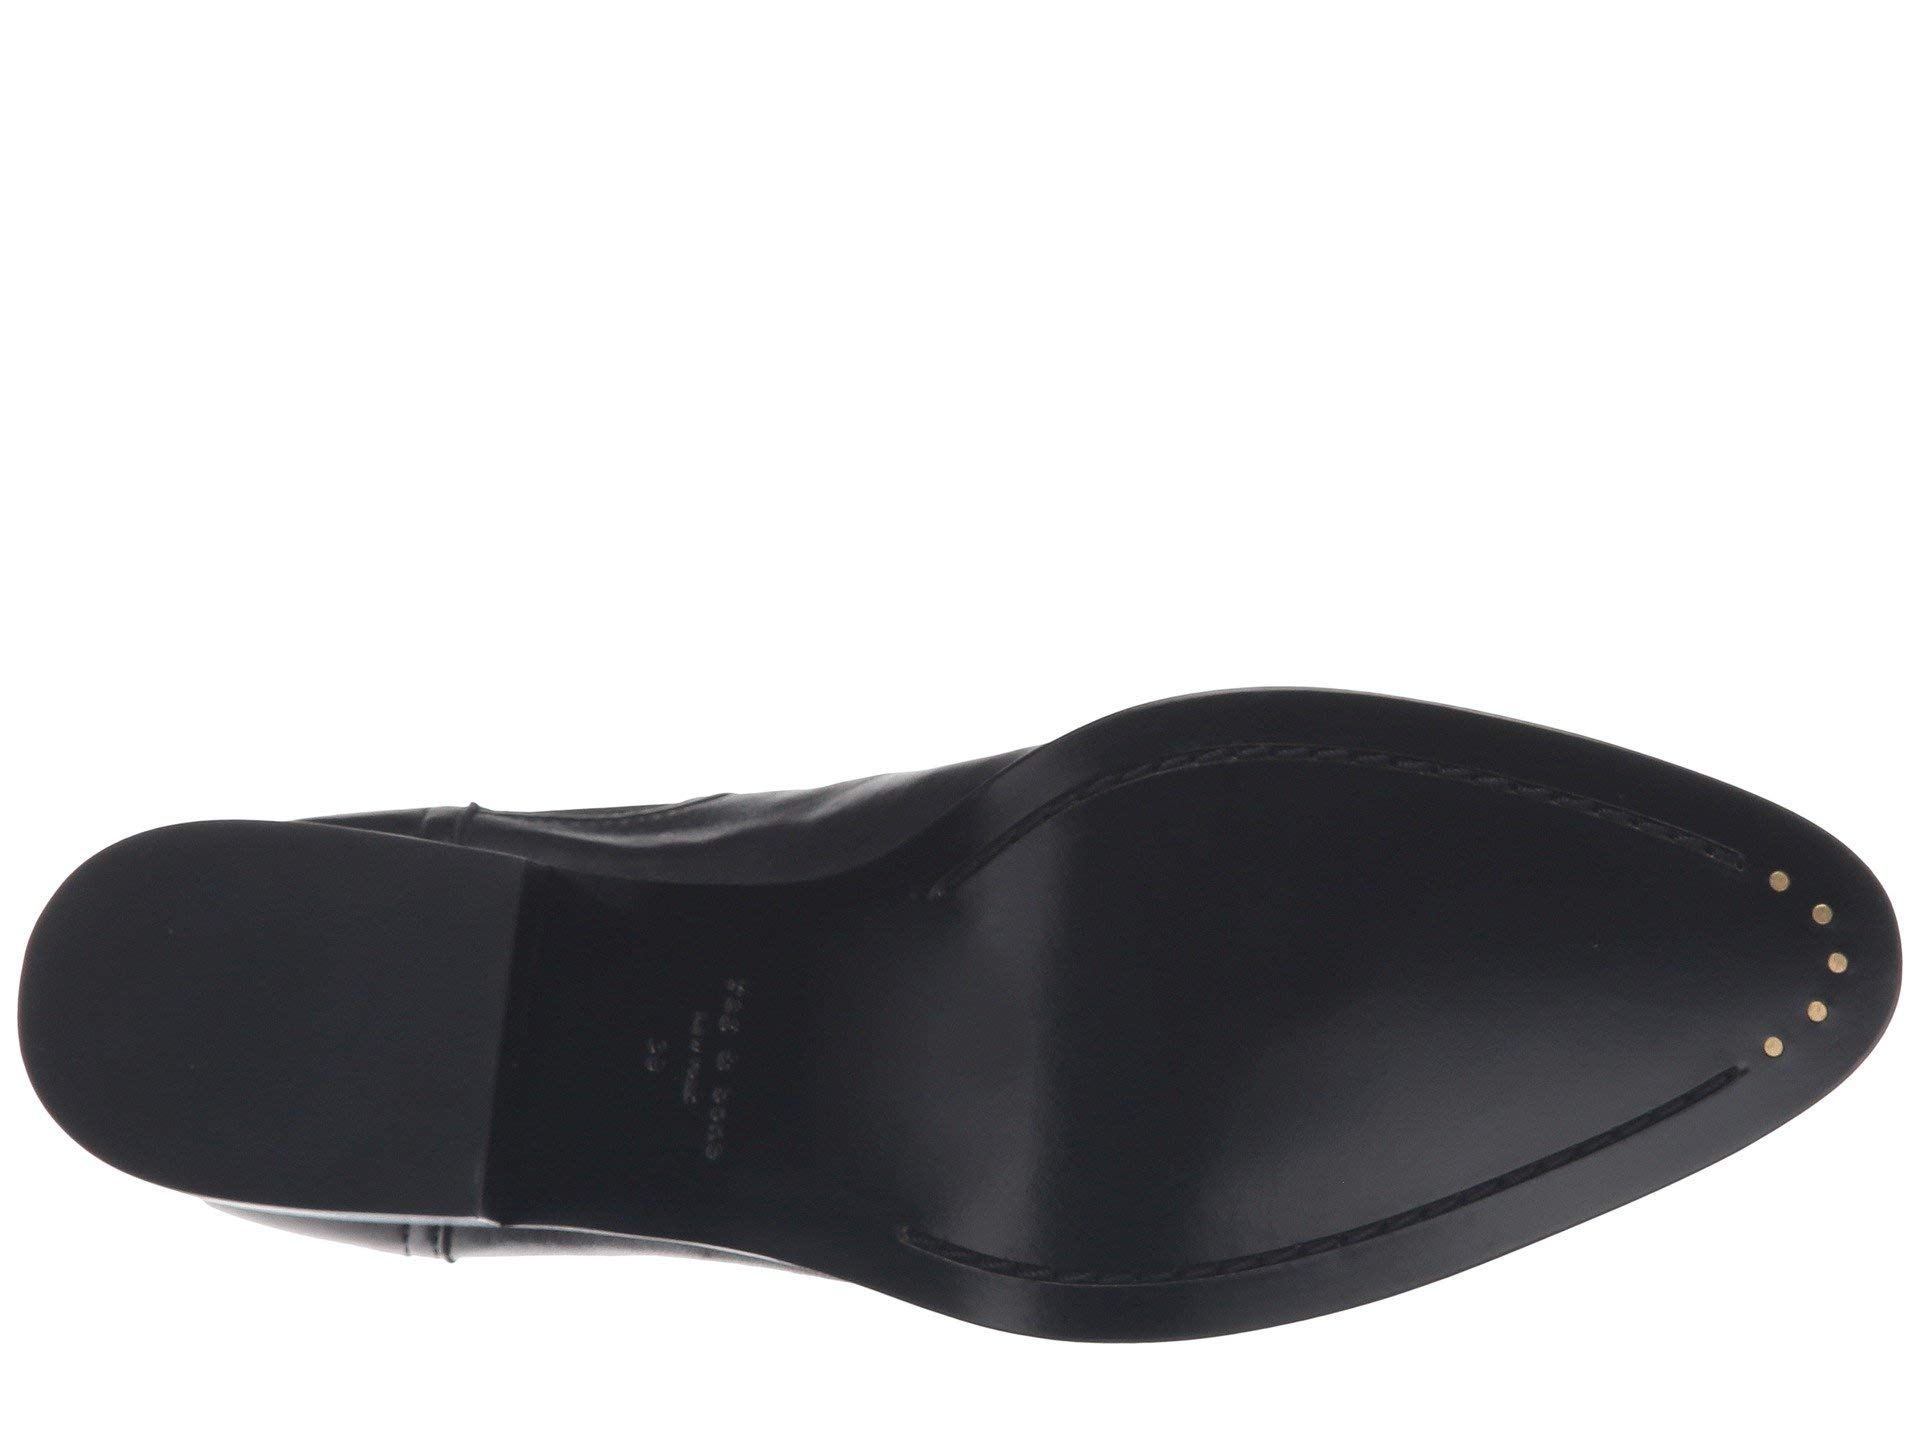circle: (1731, 826, 1864, 1057)
